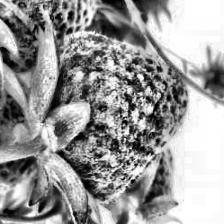Powdery Mildew Fruit: (29, 30, 191, 204), (0, 0, 98, 74), (0, 72, 37, 195)
